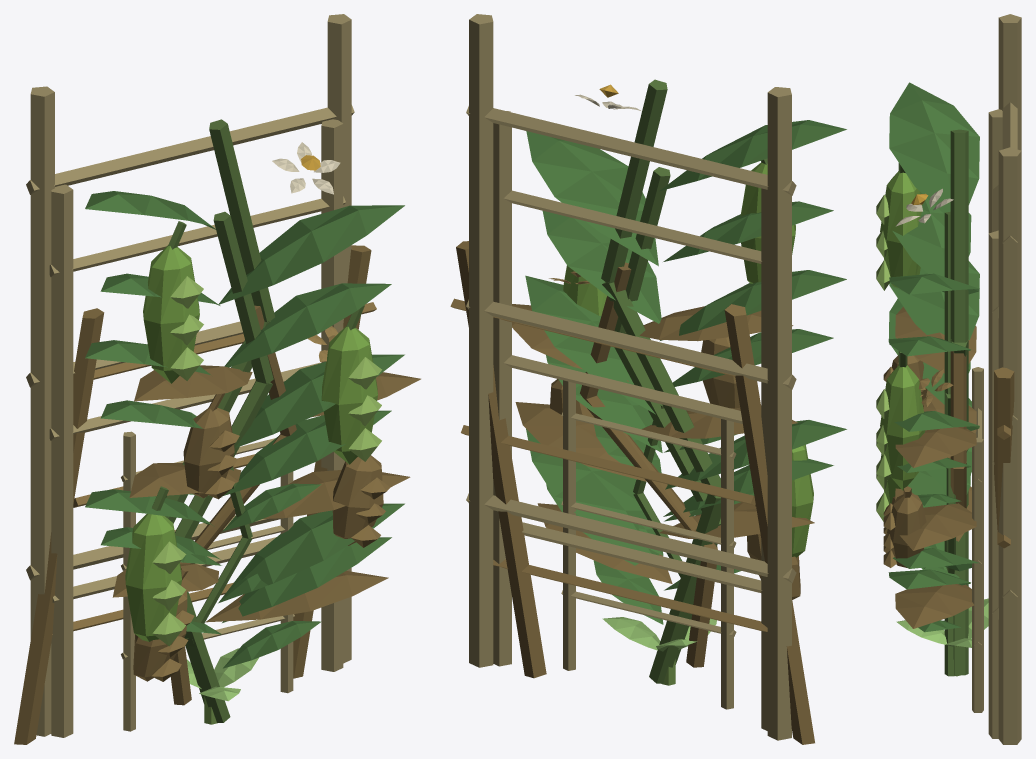
File: spring_pea.glb
3 renders of one model, left to right at view 1: azimuth 30°, elevation 25°; view 2: azimuth 150°, elevation 25°; view 3: azimuth 270°, elevation 25°, orthographic. The views are drawn at different scales.
Visible parts, largest first — view 1: stage3, stage2, dead, stage1, stage0; view 2: stage3, stage2, dead, stage1, stage0; view 3: stage3, dead, stage2, stage1, stage0.
Part boxes in pixels (bbox=[...]): stage3: bbox=[26, 14, 404, 736]; stage2: bbox=[49, 119, 391, 737]; dead: bbox=[14, 245, 420, 744]; stage1: bbox=[121, 431, 321, 731]; stage0: bbox=[186, 648, 258, 724]; stage3: bbox=[466, 14, 846, 740]; stage2: bbox=[493, 111, 833, 730]; dead: bbox=[450, 241, 814, 744]; stage1: bbox=[561, 380, 754, 709]; stage0: bbox=[602, 617, 716, 685]; stage3: bbox=[876, 14, 1021, 744]; dead: bbox=[883, 306, 1014, 628]; stage2: bbox=[888, 109, 1002, 738]; stage1: bbox=[917, 367, 983, 712]; stage0: bbox=[896, 598, 988, 676].
Size of the model in its own units: 0.6051 by 1.03 by 0.2303.
